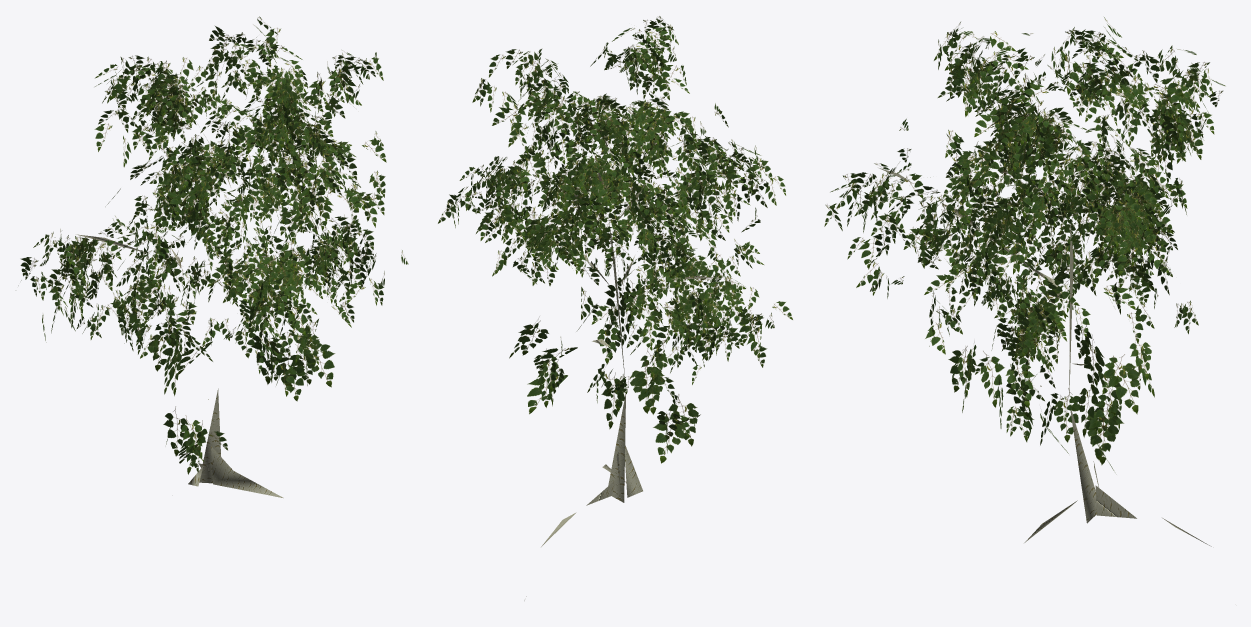
Rendered from birch_0_lod1.glb.
3 renders of one model, left to right at view 1: azimuth 30°, elevation 25°; view 2: azimuth 150°, elevation 25°; view 3: azimuth 270°, elevation 25°, orthographic. The views are drawn at different scales.
Parts seen in each view (by area): view 1: Bark; view 2: Bark; view 3: Bark.
Boxes of the visible parts, left/top/right/bottom form: Bark: left=18, top=16, right=408, bottom=498; Bark: left=438, top=16, right=792, bottom=600; Bark: left=824, top=17, right=1225, bottom=546.
Size of the model in its own units: 7.55 by 11.06 by 6.85.
Materials: 2 (2 with a texture image).
